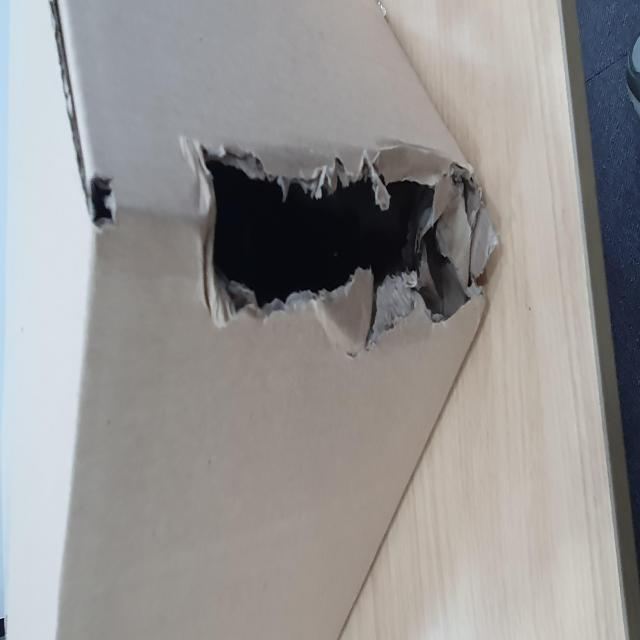damaged: (155, 318, 285, 640)
